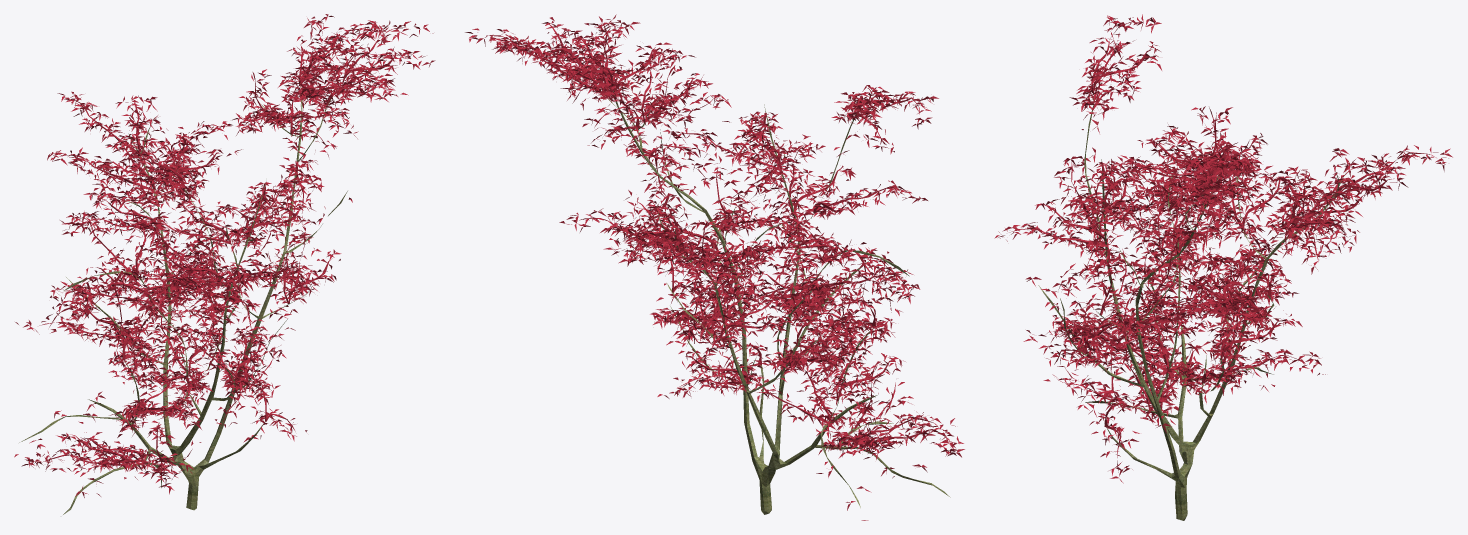
The model's file is maple.fbx.
3 views of the same model, side by side, from view 1: azimuth 30°, elevation 25°; view 2: azimuth 150°, elevation 25°; view 3: azimuth 270°, elevation 25° (orthographic). The views are drawn at different scales.
Parts seen in each view (by area): view 1: Mesh9999 objArch31__1_1 G_3d_tree___Maple1 Model, Mesh1 objArch31_1 G_3d_tree___Maple1 Model; view 2: Mesh9999 objArch31__1_1 G_3d_tree___Maple1 Model, Mesh1 objArch31_1 G_3d_tree___Maple1 Model; view 3: Mesh9999 objArch31__1_1 G_3d_tree___Maple1 Model, Mesh1 objArch31_1 G_3d_tree___Maple1 Model.
Part boxes in pixels (bbox=[...]): Mesh9999 objArch31__1_1 G_3d_tree___Maple1 Model: bbox=[14, 14, 435, 497]; Mesh1 objArch31_1 G_3d_tree___Maple1 Model: bbox=[19, 86, 347, 514]; Mesh9999 objArch31__1_1 G_3d_tree___Maple1 Model: bbox=[465, 14, 964, 520]; Mesh1 objArch31_1 G_3d_tree___Maple1 Model: bbox=[604, 91, 950, 514]; Mesh9999 objArch31__1_1 G_3d_tree___Maple1 Model: bbox=[994, 14, 1452, 483]; Mesh1 objArch31_1 G_3d_tree___Maple1 Model: bbox=[1038, 96, 1344, 520].
Size of the model in its own units: 1.92 by 1.86 by 1.59.
Materials: 2 (1 with a texture image).
